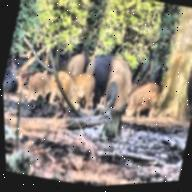boar: (122, 76, 164, 124)
